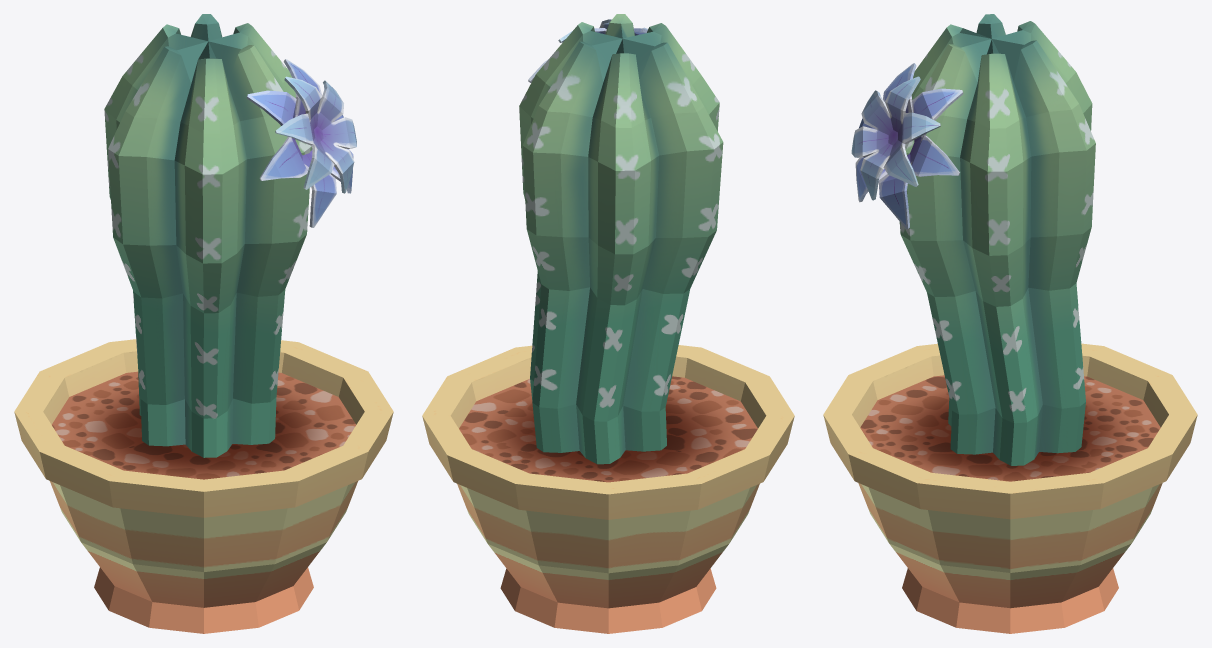
The model's file is Cactus.fbx.
3 views of the same model, side by side, from view 1: azimuth 30°, elevation 25°; view 2: azimuth 150°, elevation 25°; view 3: azimuth 270°, elevation 25° (orthographic).
Parts seen in each view (by area): view 1: Cactus1; view 2: Cactus1; view 3: Cactus1.
Part boxes in pixels (x1,y1,x2,y2): Cactus1: (14,14,393,633); Cactus1: (422,14,794,633); Cactus1: (823,14,1197,633).
Bounding box in the file's own units: 3.41 × 5.56 × 3.41.
